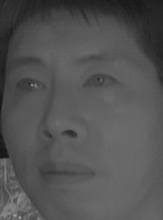eye: (82, 71, 121, 93), (15, 74, 49, 98)
mouth: (37, 157, 96, 193)
